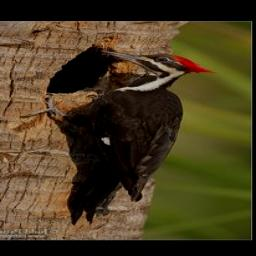Woodpecker: (19, 50, 217, 226)
